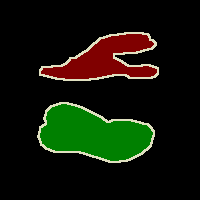shoe: (38, 103, 154, 162), (40, 32, 158, 80)
